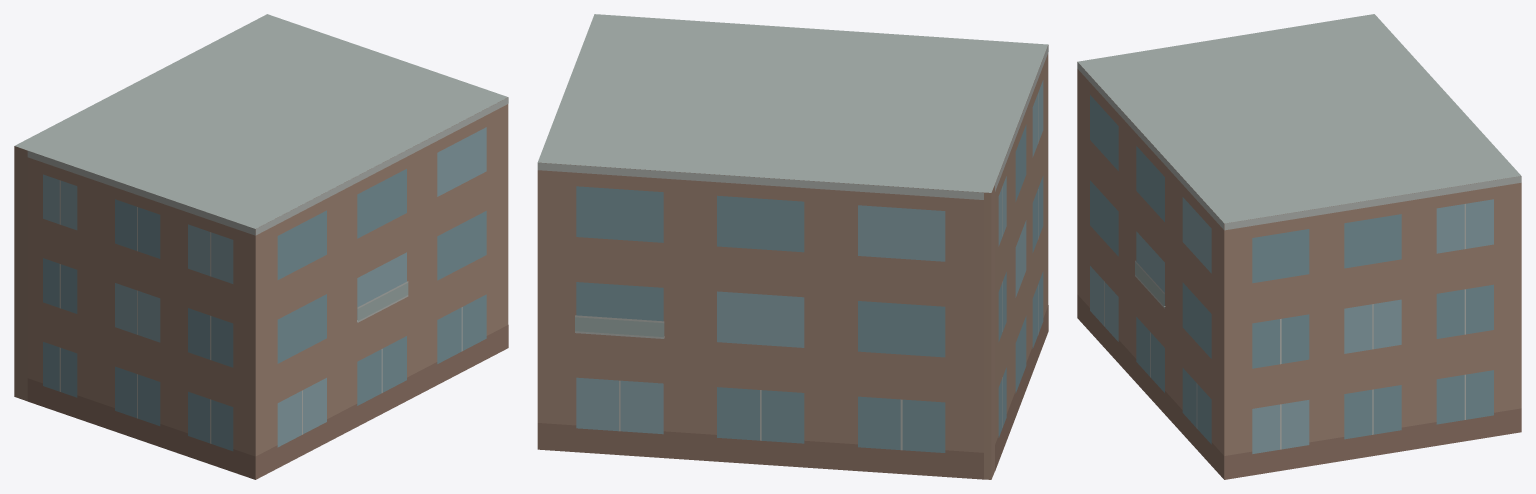
File: survey-upis-32976443.glb
3 renders of one model, left to right at view 1: azimuth 30°, elevation 25°; view 2: azimuth 150°, elevation 25°; view 3: azimuth 270°, elevation 25°, orthographic. The views are drawn at different scales.
Parts seen in each view (by area): view 1: survey-upis-32976443.tmp; view 2: survey-upis-32976443.tmp; view 3: survey-upis-32976443.tmp.
Part boxes in pixels (x1,y1,x2,y2): survey-upis-32976443.tmp: (14, 14, 508, 479); survey-upis-32976443.tmp: (537, 14, 1048, 479); survey-upis-32976443.tmp: (1077, 14, 1521, 479).
Size of the model in its own units: 16.05 by 9.15 by 14.38.
